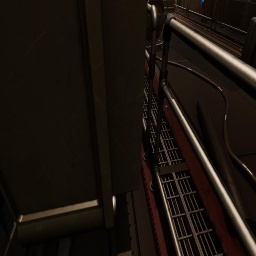NitrogenTank ,: (200, 0, 211, 22)
